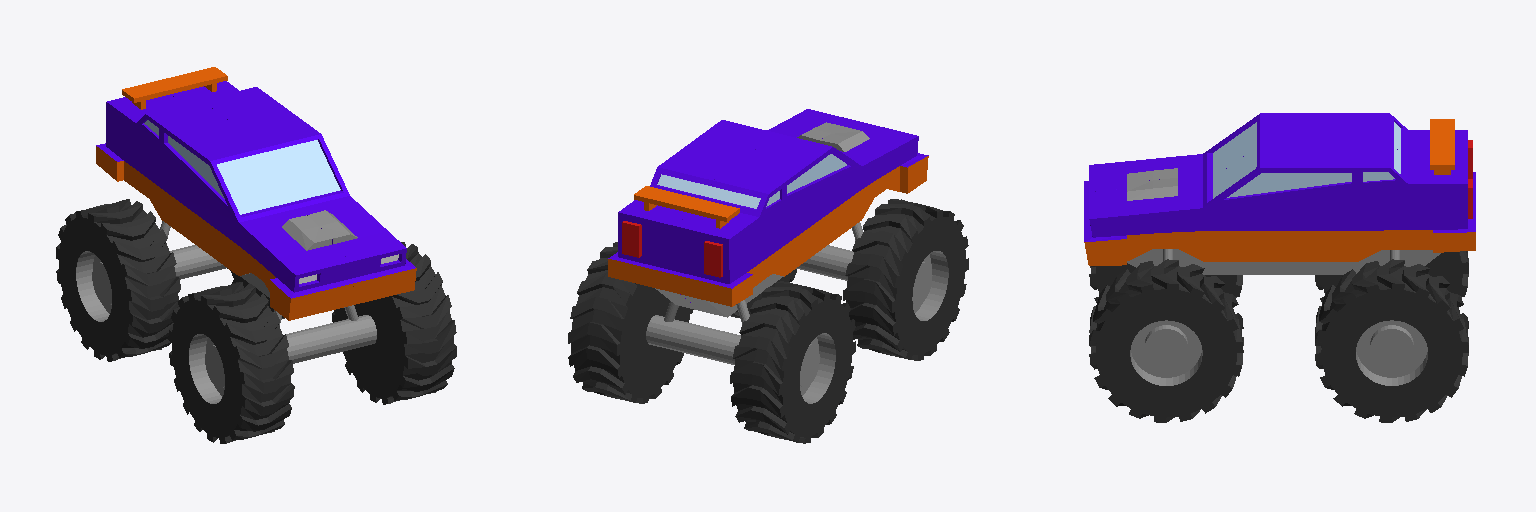
File: car_04.obj
3 renders of one model, left to right at view 1: azimuth 30°, elevation 25°; view 2: azimuth 150°, elevation 25°; view 3: azimuth 270°, elevation 25°, orthographic.
Visible parts, largest first — view 1: body, wheel_1, wheel, susp, Cube, susp_1; view 2: body, wheel, wheel_1, susp_1, Cube, susp; view 3: body, wheel, wheel_1, Cube.
Boxes of the visible parts, x1=… form: body: x1=96, y1=81, x2=416, y2=320; wheel_1: x1=168, y1=242, x2=456, y2=443; wheel: x1=56, y1=199, x2=284, y2=361; susp: x1=286, y1=315, x2=376, y2=363; Cube: x1=122, y1=67, x2=227, y2=102; susp_1: x1=170, y1=245, x2=226, y2=279; body: x1=608, y1=109, x2=928, y2=317; wheel: x1=568, y1=242, x2=855, y2=443; wheel_1: x1=731, y1=199, x2=968, y2=360; susp_1: x1=646, y1=315, x2=740, y2=364; Cube: x1=634, y1=186, x2=739, y2=221; susp: x1=796, y1=245, x2=853, y2=280; body: x1=1084, y1=113, x2=1475, y2=274; wheel: x1=1315, y1=251, x2=1468, y2=422; wheel_1: x1=1089, y1=259, x2=1243, y2=422; Cube: x1=1430, y1=119, x2=1454, y2=169.
Bounding box in the file's own units: 95.38 × 99.64 × 153.